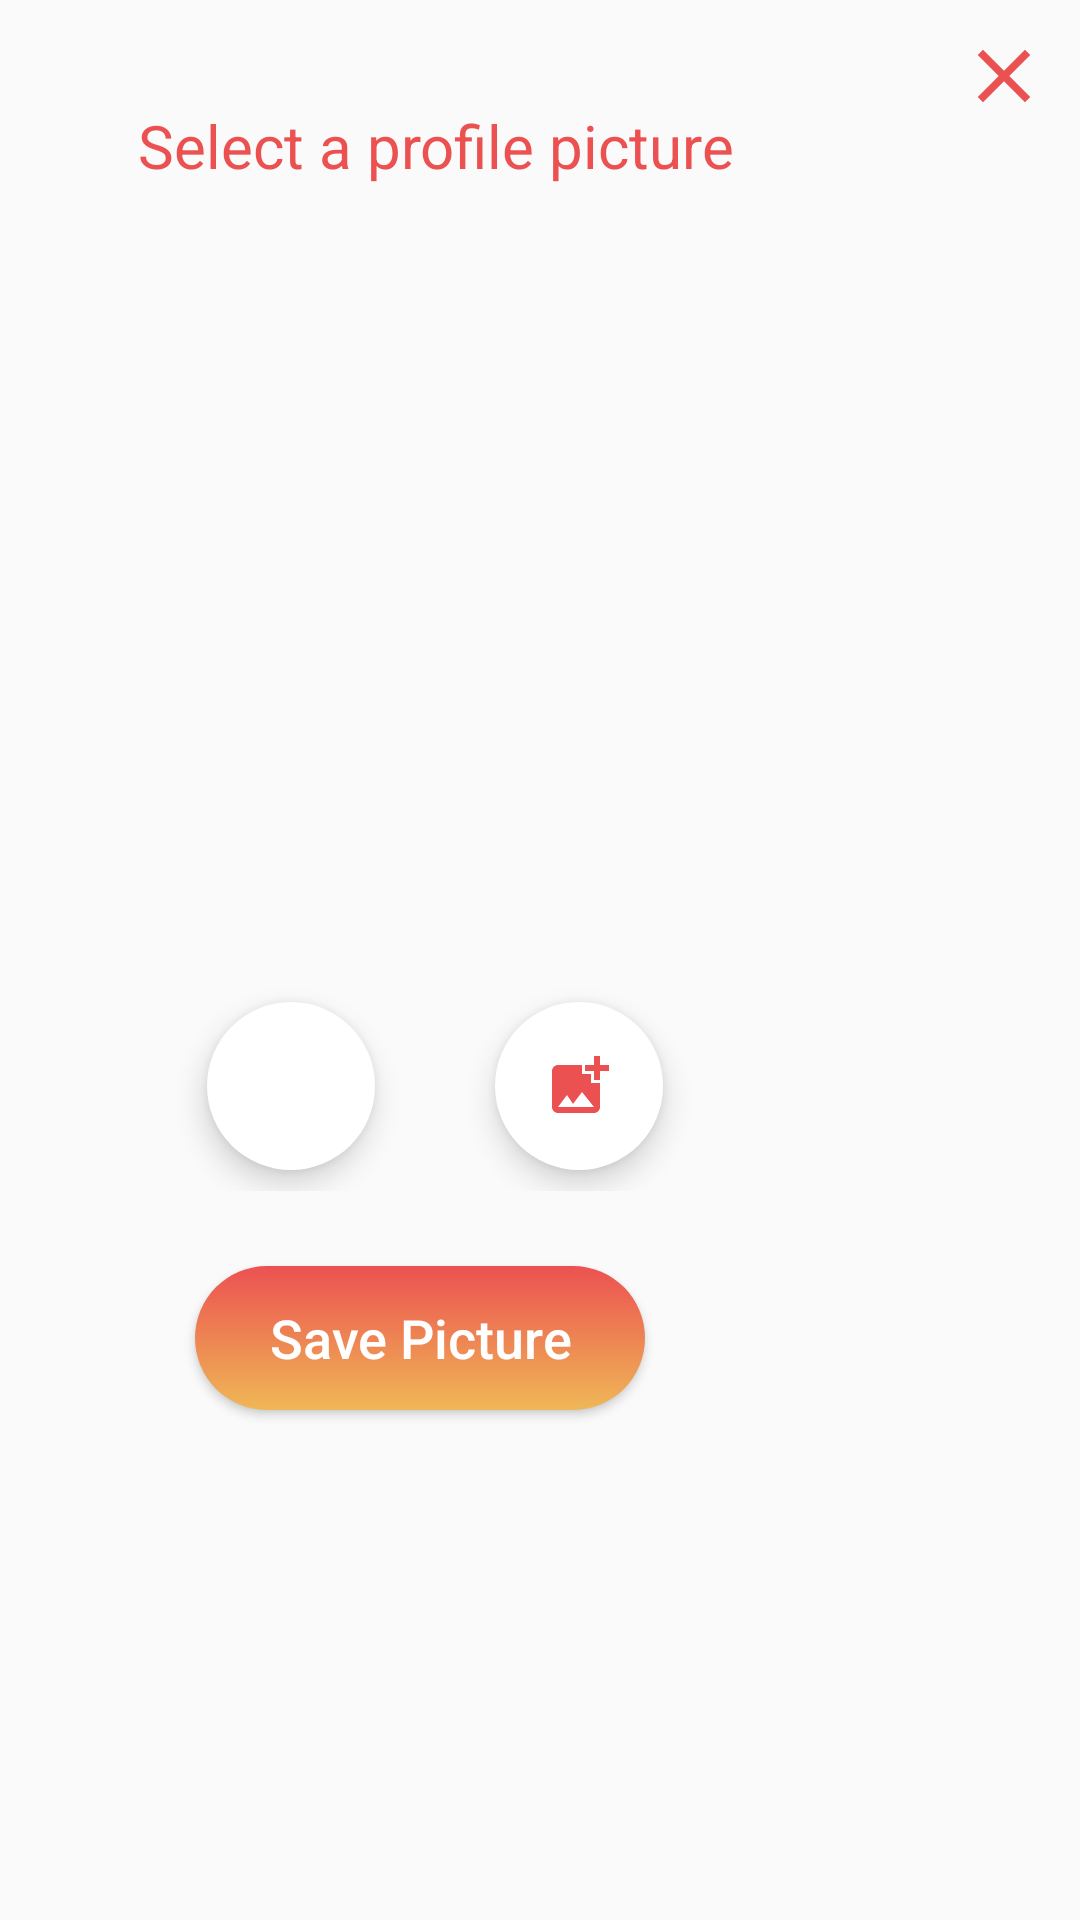

Named icons in this screenshot (1080 x 1920) and their centers, point (x, y):
close: point (1004, 76)
